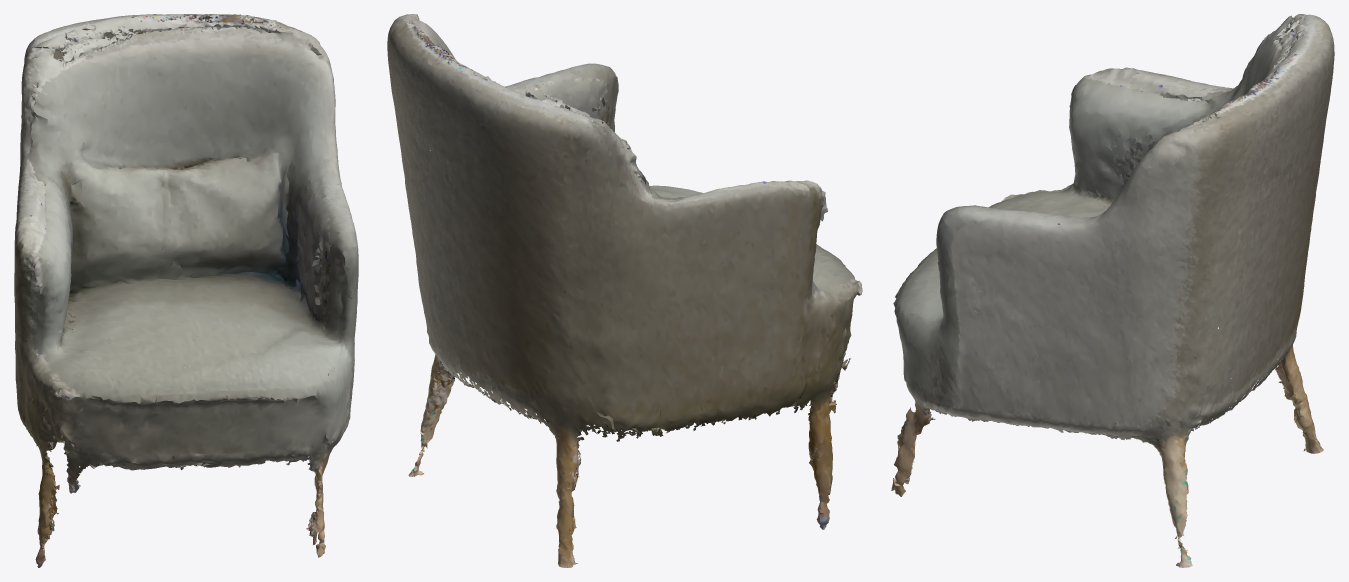
The model's file is obj_modern_emery_upholstered_cha_f04d12.glb.
The picture shows the model from 3 angles, left to right: view 1: azimuth 30°, elevation 25°; view 2: azimuth 150°, elevation 25°; view 3: azimuth 270°, elevation 25°; orthographic projection. The views are drawn at different scales.
Visible parts, largest first — view 1: obj_modern_emery_upholstered_cha_f04d12; view 2: obj_modern_emery_upholstered_cha_f04d12; view 3: obj_modern_emery_upholstered_cha_f04d12.
Part boxes in pixels (x1=…): obj_modern_emery_upholstered_cha_f04d12: x1=14, y1=14, x2=358, y2=567; obj_modern_emery_upholstered_cha_f04d12: x1=387, y1=14, x2=862, y2=567; obj_modern_emery_upholstered_cha_f04d12: x1=891, y1=14, x2=1334, y2=567.
Size of the model in its own units: 0.7093 by 0.85 by 0.735.
